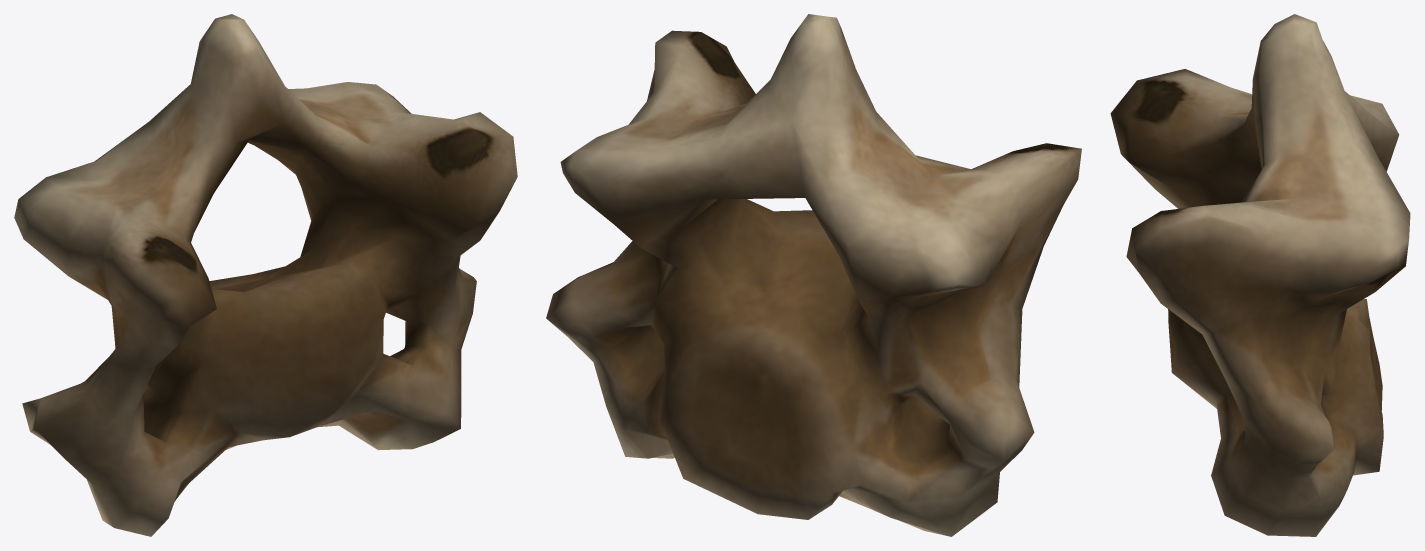
The picture shows the model from 3 angles, left to right: view 1: azimuth 30°, elevation 25°; view 2: azimuth 150°, elevation 25°; view 3: azimuth 270°, elevation 25°; orthographic projection. The views are drawn at different scales.
Parts seen in each view (by area): view 1: C11:Group20513; view 2: C11:Group20513; view 3: C11:Group20513.
Part boxes in pixels (x1,y1,x2,y2): C11:Group20513: [14, 14, 517, 536]; C11:Group20513: [546, 14, 1081, 536]; C11:Group20513: [1110, 14, 1410, 536].
Bounding box in the file's own units: 34.14 × 34.76 × 20.7.
Materials: 1 (1 with a texture image).
